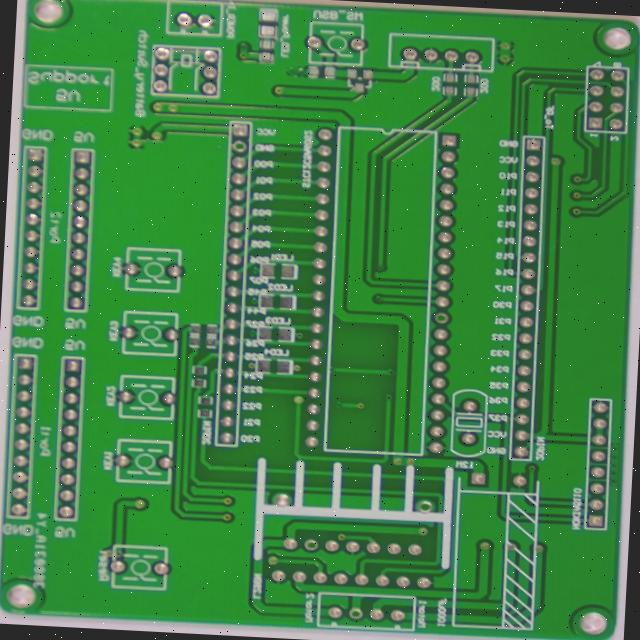missing_hole: (499, 341, 526, 363), (481, 550, 509, 568), (350, 591, 373, 610), (265, 154, 288, 171)
